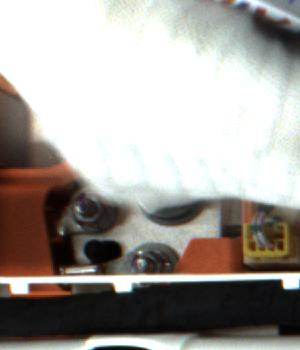screw_s: (70, 194, 124, 233), (131, 241, 182, 273)
